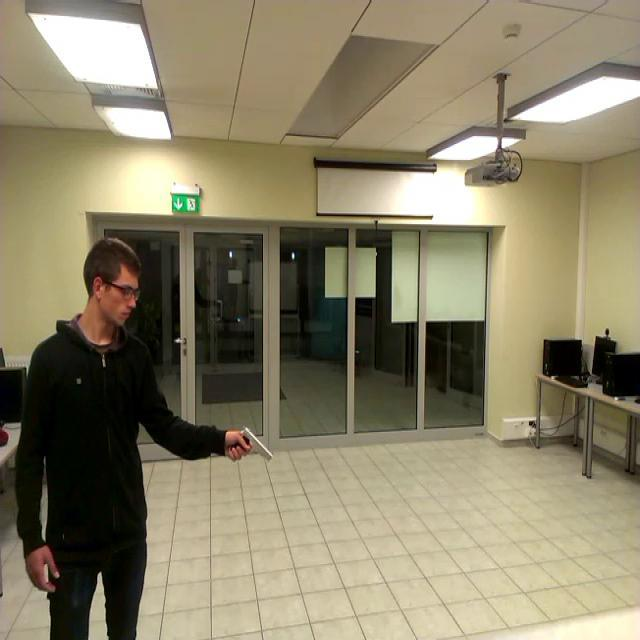Gun: (232, 426, 274, 460)
